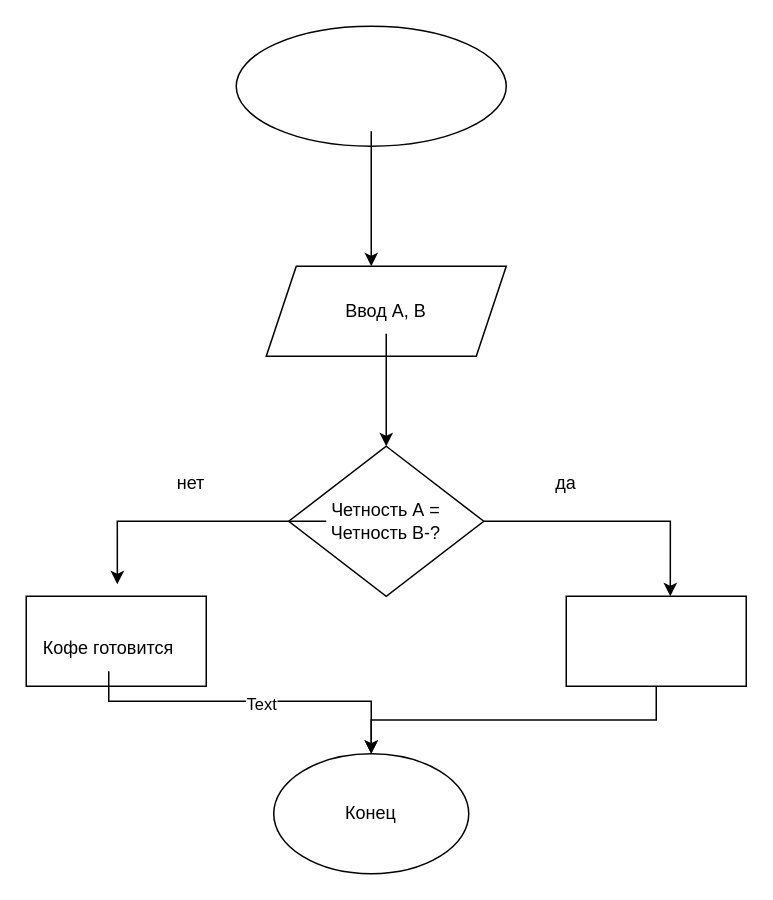
Image size: 773x900. Some labels were removed from this diagram. Each missing label, with the centre of its shape:
Кофе не готовится: [655,640]
начало: [370,85]
